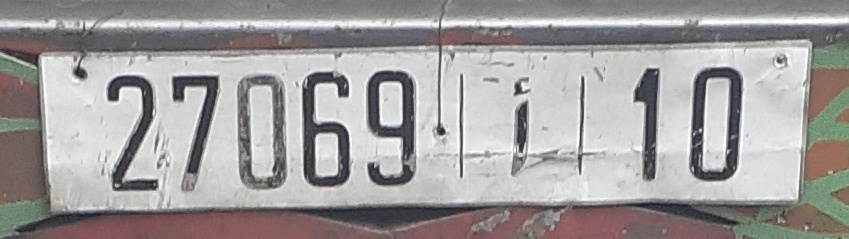0: (684, 58, 751, 190), (232, 68, 291, 197)
1: (619, 59, 675, 190)
2: (94, 69, 168, 194)
6: (301, 61, 356, 193)
7: (167, 68, 230, 202)
9: (361, 61, 424, 191)
a: (501, 68, 546, 185)
